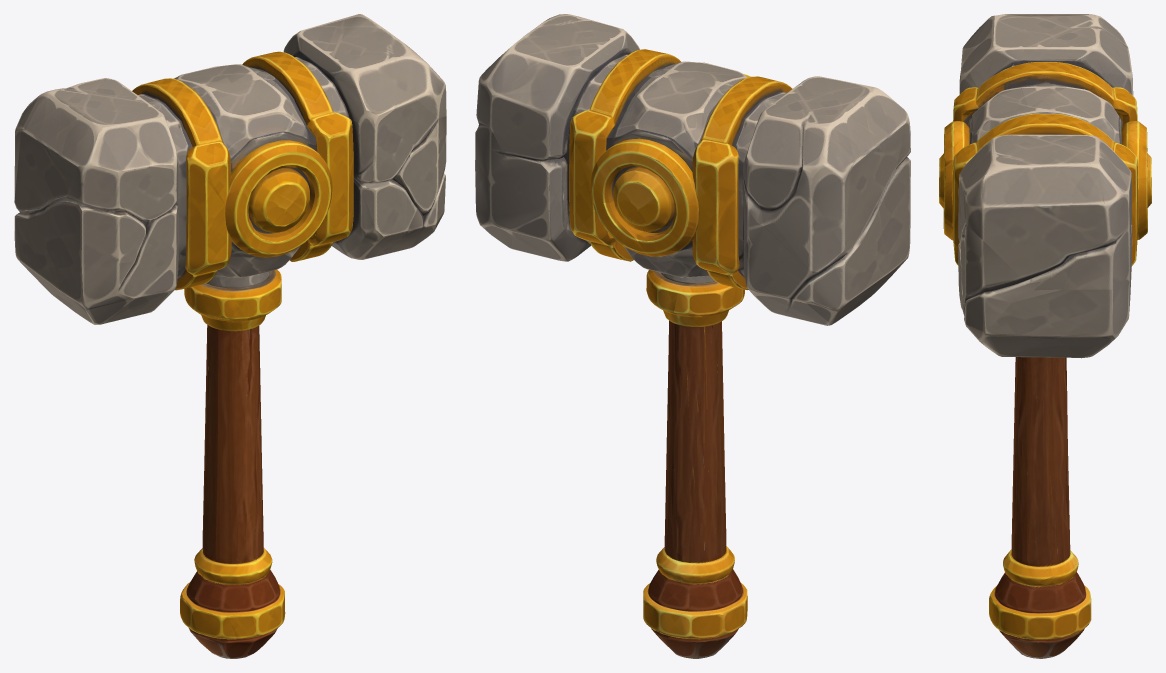
Rendered from hammer-original.glb.
3 renders of one model, left to right at view 1: azimuth 30°, elevation 25°; view 2: azimuth 150°, elevation 25°; view 3: azimuth 270°, elevation 25°, orthographic. The views are drawn at different scales.
Parts seen in each view (by area): view 1: output_unwrapped; view 2: output_unwrapped; view 3: output_unwrapped.
Part boxes in pixels (<box>): output_unwrapped: <box>14,14,446,658</box>; output_unwrapped: <box>475,14,910,658</box>; output_unwrapped: <box>939,14,1151,658</box>.
Size of the model in its own units: 1.26 by 1.9 by 0.6527.
Materials: 1 (1 with a texture image).
